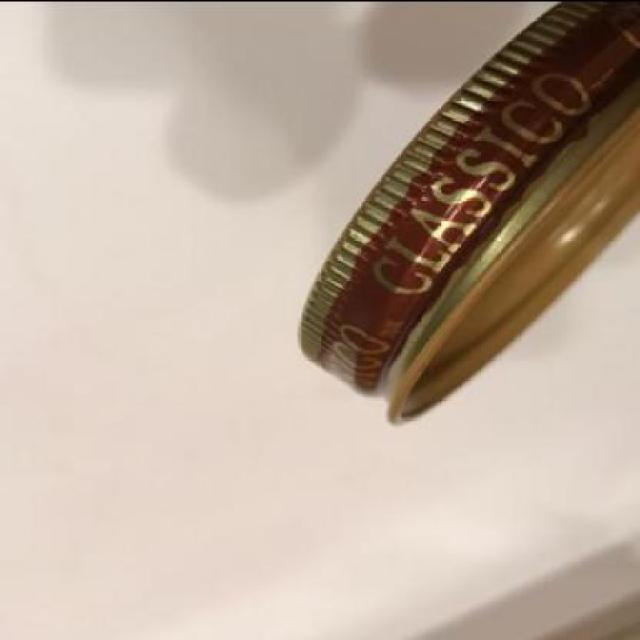METAL: (294, 1, 638, 425)
